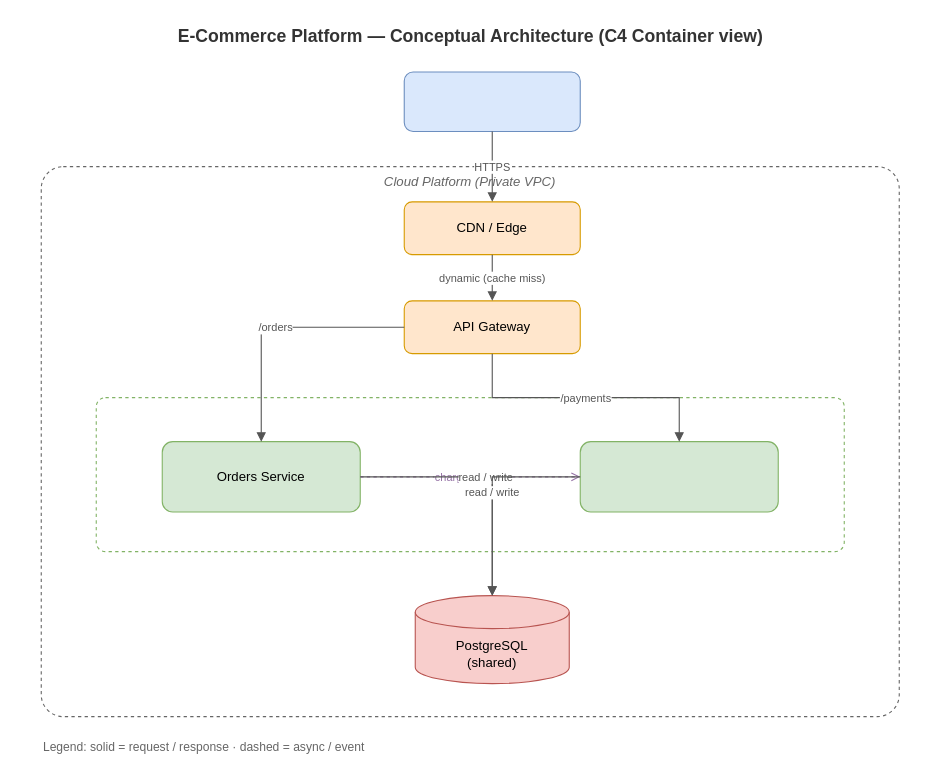
Image size: 939x779. Some labels were removed from this diagram. Each missing label, with the box of its shape:
Application Services: (95, 397, 844, 552)
End Users (Web / Mobile): (403, 71, 580, 131)
Payments Service: (579, 441, 778, 512)
